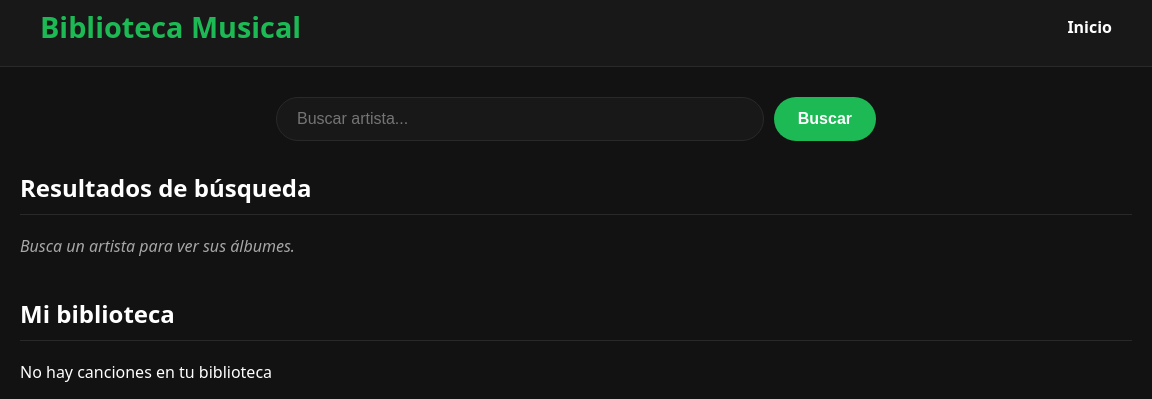
App › muestra mensaje si la búsqueda no devuelve resultados
In the field with placeholder "Buscar artista...": (520, 119) [276,97,764,141], type "xyz"
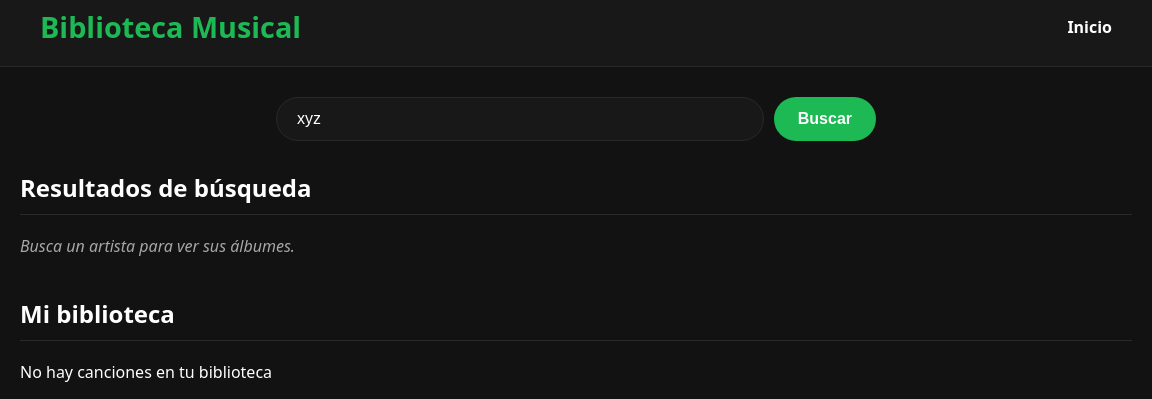
Click the button "Buscar": (825, 119) [774,97,876,141]
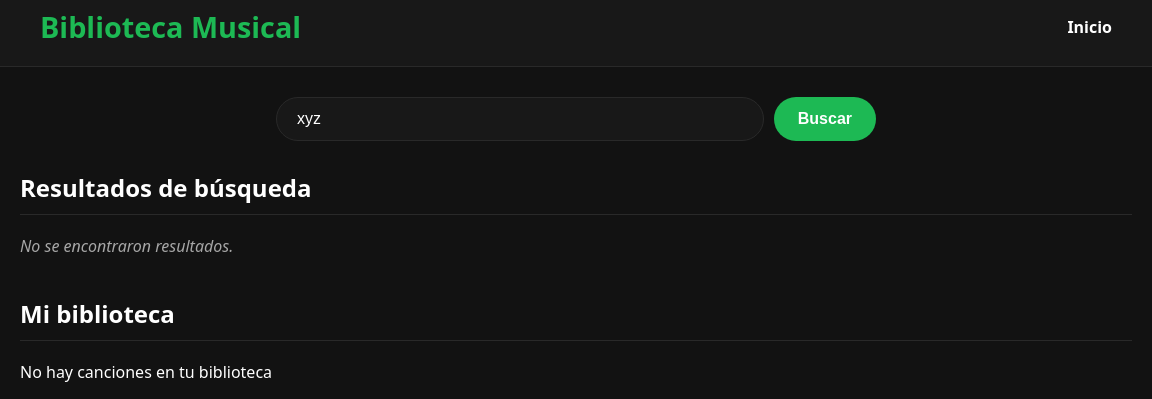
Result: the text "No se encontraron resultados." is shown at [20,235,233,257]
